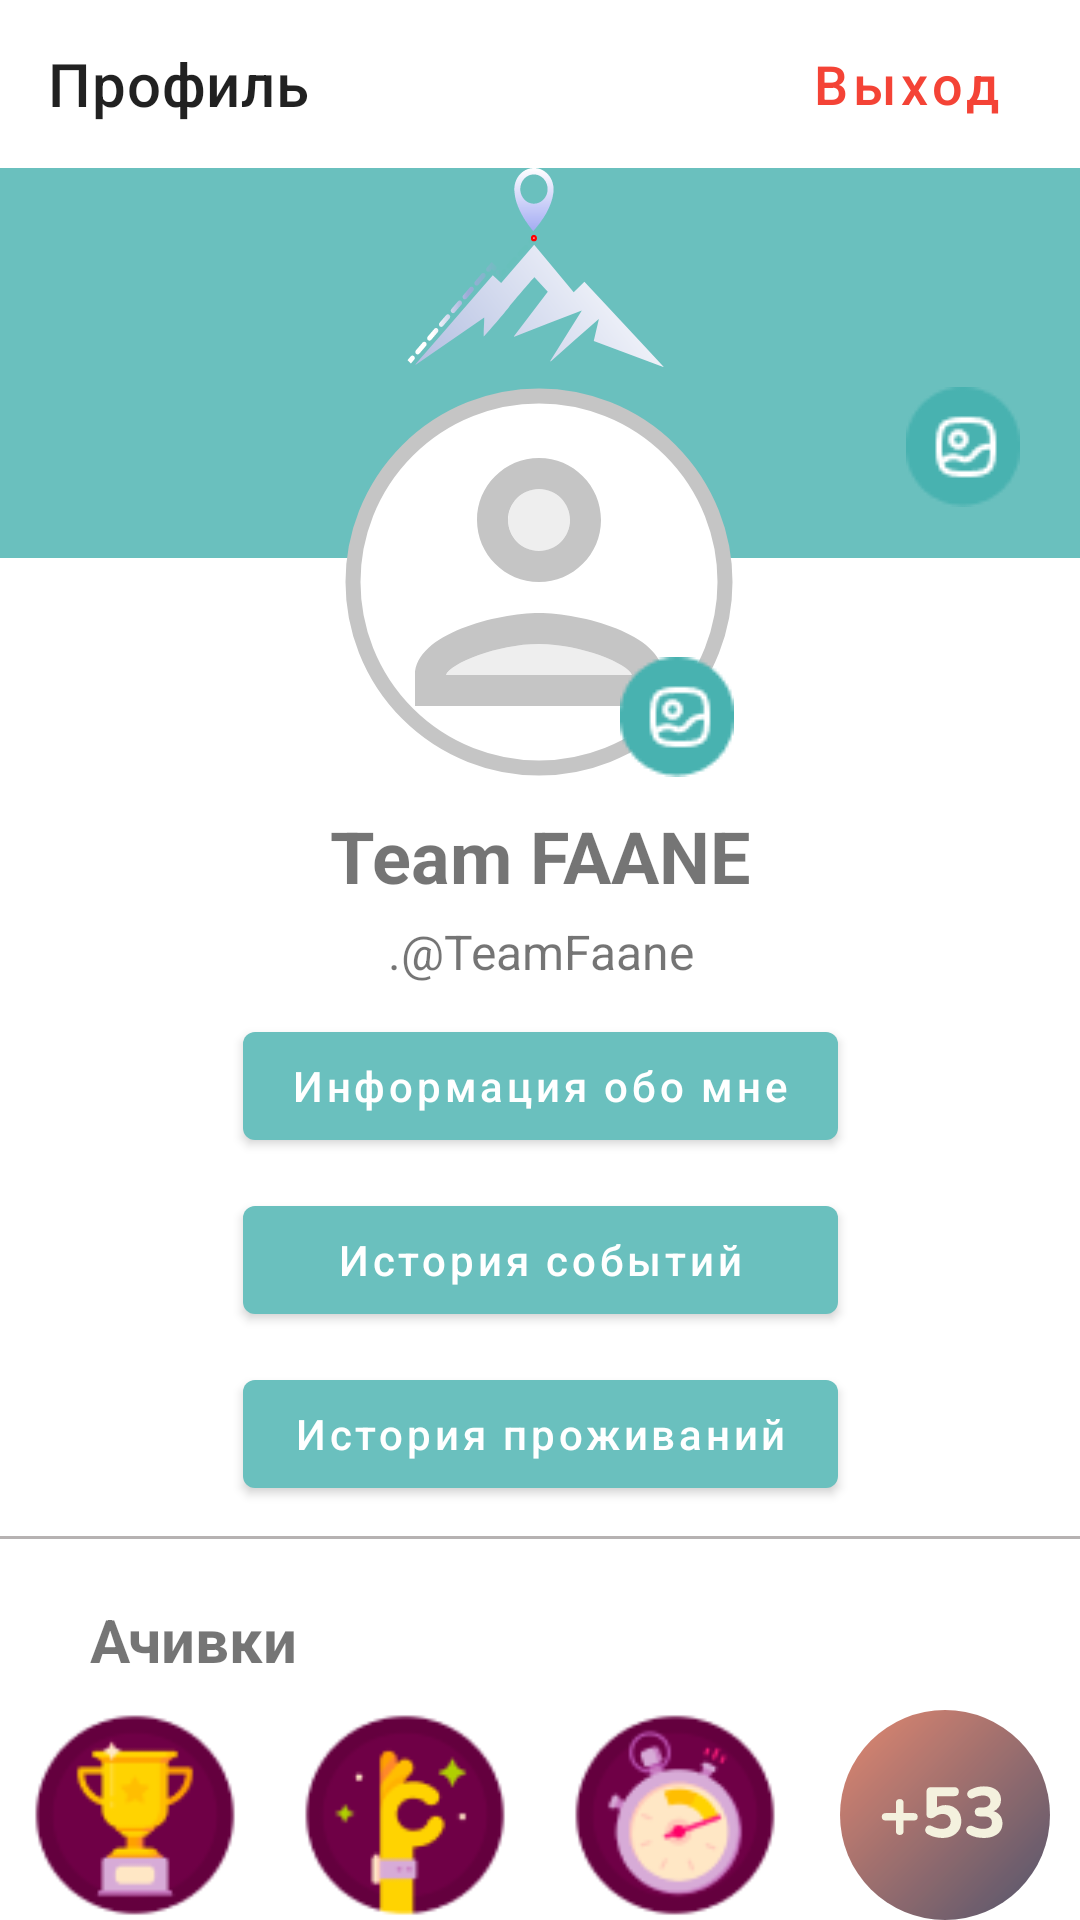

Point at icon controls on the screen. Image size 1080×1920, points as (x,y).
mountain profile: (535,301)
